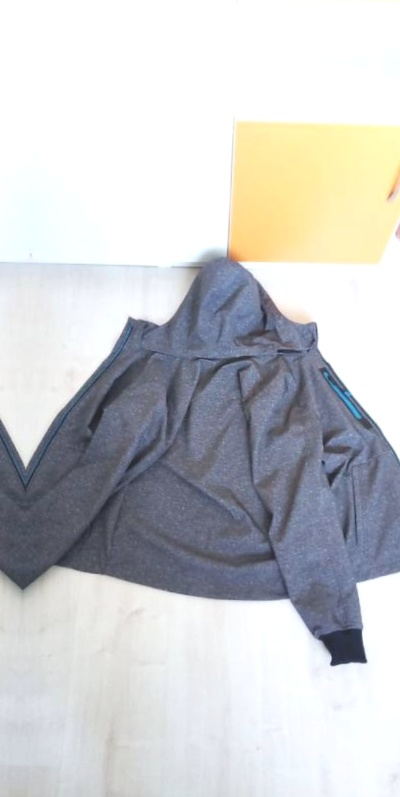Hoodie: (25, 222, 400, 694), (0, 213, 27, 685)
